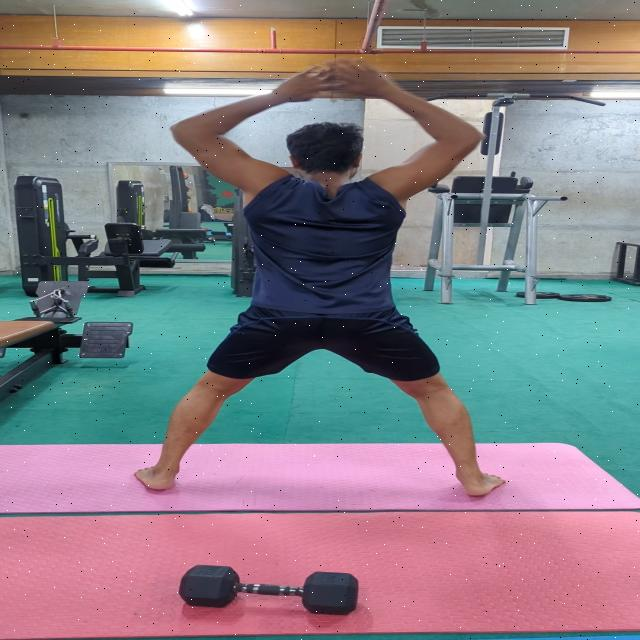Normal_JumpingJacks: (114, 41, 512, 503)
